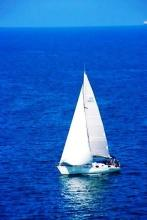fanchuan: (52, 66, 124, 178)
